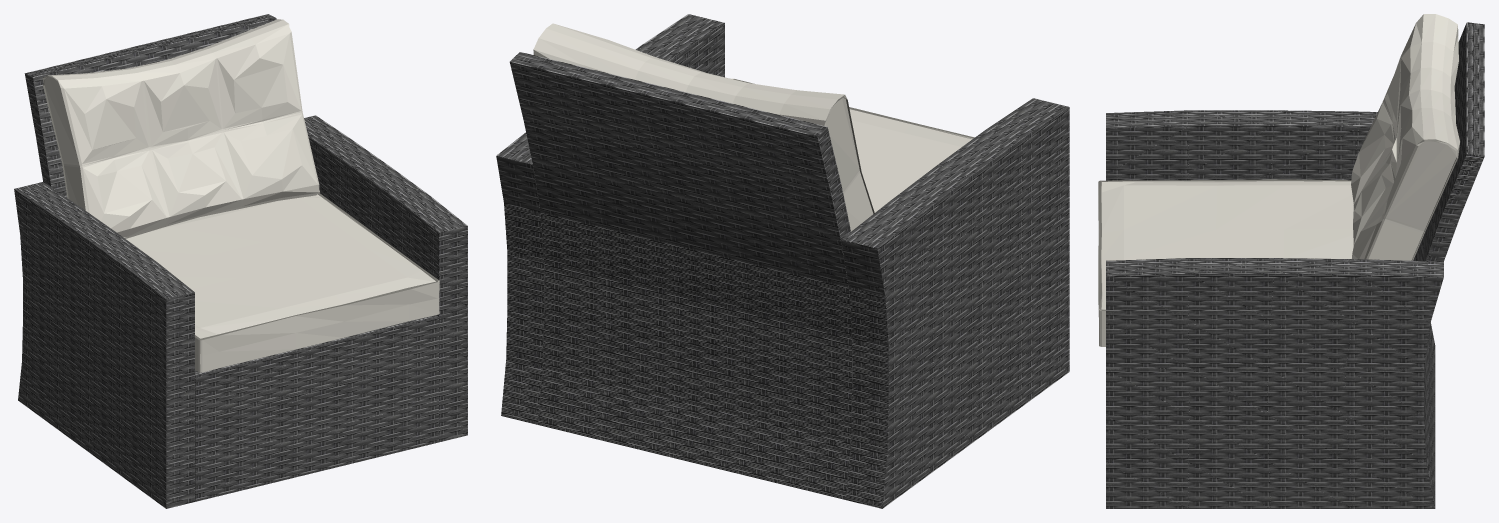
Rendered from sh-scopia-rattan-armchair.glb.
3 views of the same model, side by side, from view 1: azimuth 30°, elevation 25°; view 2: azimuth 150°, elevation 25°; view 3: azimuth 270°, elevation 25° (orthographic). The views are drawn at different scales.
Visible parts, largest first — view 1: armchair_Cube.001, baseCushion_Cube.002; view 2: armchair_Cube.001, baseCushion_Cube.002; view 3: armchair_Cube.001, baseCushion_Cube.002.
Boxes of the visible parts, x1=… form: armchair_Cube.001: x1=14, y1=14, x2=467, y2=508; baseCushion_Cube.002: x1=42, y1=19, x2=439, y2=372; armchair_Cube.001: x1=496, y1=14, x2=1069, y2=508; baseCushion_Cube.002: x1=533, y1=23, x2=974, y2=231; armchair_Cube.001: x1=1106, y1=22, x2=1484, y2=508; baseCushion_Cube.002: x1=1098, y1=14, x2=1459, y2=346.
Bounding box in the file's own units: 1 × 1 × 1.
3 materials, 1 textured.
